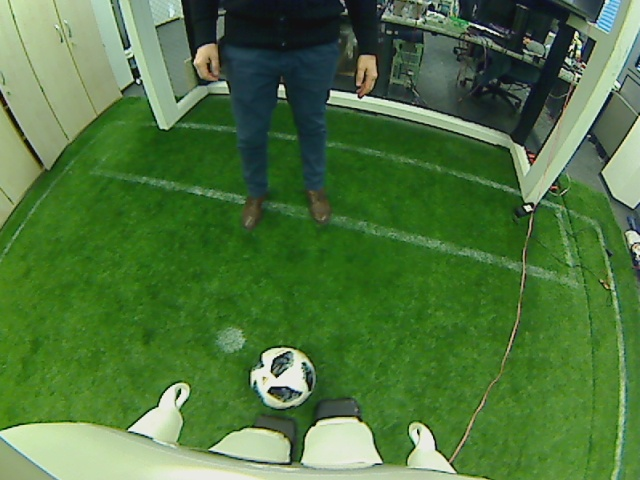ball: (247, 342, 318, 410)
